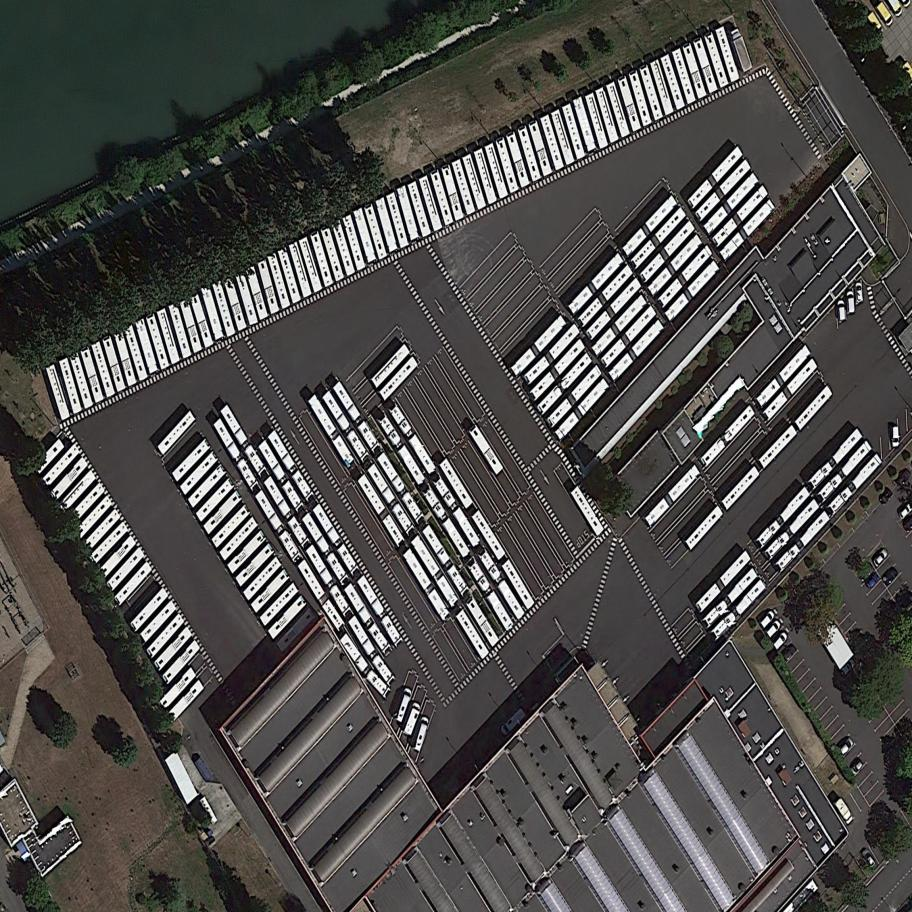large-vehicle: (759, 356, 821, 422), (685, 145, 747, 211), (565, 250, 627, 316), (543, 363, 605, 429), (753, 343, 814, 409), (637, 219, 698, 285), (575, 263, 636, 329), (552, 376, 613, 442), (710, 184, 772, 248), (619, 194, 681, 258), (697, 403, 758, 468), (693, 158, 754, 223), (606, 318, 667, 383), (598, 304, 659, 369), (589, 293, 650, 358), (583, 276, 644, 341), (508, 314, 569, 379), (645, 233, 705, 299), (305, 392, 357, 468), (431, 472, 482, 549), (716, 199, 778, 262), (693, 549, 754, 613), (655, 244, 716, 308), (627, 206, 688, 270), (527, 338, 588, 402), (534, 352, 594, 417), (410, 533, 461, 609), (643, 464, 704, 527), (521, 323, 582, 386), (815, 439, 875, 503), (401, 547, 452, 622), (376, 412, 427, 487), (701, 172, 761, 235), (701, 566, 761, 629), (296, 558, 347, 632), (465, 558, 516, 632), (421, 485, 472, 559), (375, 451, 426, 525), (254, 488, 303, 565), (305, 544, 354, 620), (825, 453, 884, 516), (256, 439, 306, 513), (477, 546, 527, 620), (356, 473, 406, 547), (346, 615, 397, 687), (663, 260, 722, 322), (807, 428, 866, 490), (773, 511, 832, 573), (755, 485, 813, 548), (262, 476, 312, 549), (321, 390, 371, 463), (421, 524, 471, 597), (388, 403, 438, 476), (355, 574, 404, 648), (311, 502, 360, 576), (212, 418, 261, 492), (763, 498, 821, 560), (344, 583, 393, 656), (300, 512, 349, 585), (267, 429, 316, 502), (709, 580, 768, 640), (367, 463, 416, 535), (338, 634, 391, 700), (332, 381, 381, 452), (219, 404, 267, 474), (111, 561, 156, 608), (38, 443, 83, 490), (154, 409, 199, 456), (377, 355, 422, 402), (265, 594, 310, 640), (274, 607, 318, 654), (151, 625, 195, 672), (241, 555, 285, 602), (217, 515, 261, 562), (201, 489, 245, 536), (103, 546, 147, 593), (369, 343, 413, 390), (792, 384, 836, 431), (438, 456, 475, 511), (257, 581, 301, 627), (248, 568, 292, 614), (127, 587, 171, 633), (79, 508, 123, 554), (47, 457, 91, 503), (144, 613, 187, 660), (757, 424, 800, 471), (469, 509, 507, 562), (468, 423, 506, 476), (225, 529, 269, 574), (233, 542, 277, 587), (209, 503, 253, 548), (185, 463, 229, 508), (177, 451, 221, 496), (156, 666, 199, 712), (160, 640, 203, 686), (683, 505, 726, 551), (570, 484, 607, 537), (194, 477, 237, 522), (719, 466, 762, 511), (464, 596, 501, 648), (454, 608, 491, 660), (500, 558, 536, 611), (89, 521, 132, 565), (137, 600, 179, 645), (170, 439, 213, 482), (73, 495, 115, 539), (98, 535, 139, 579), (57, 470, 98, 513), (167, 679, 208, 721), (659, 53, 687, 111), (319, 223, 346, 283), (713, 26, 741, 83), (703, 30, 730, 89), (681, 42, 708, 101), (638, 63, 665, 122), (561, 101, 587, 162), (472, 148, 499, 206), (122, 324, 149, 382), (692, 37, 719, 95), (428, 167, 454, 227), (363, 202, 389, 261), (341, 213, 367, 272), (277, 247, 303, 306), (69, 352, 95, 411), (539, 113, 565, 172), (605, 81, 631, 140), (45, 363, 71, 422), (407, 180, 433, 238), (145, 313, 171, 371), (628, 68, 653, 128), (418, 175, 444, 232), (223, 276, 249, 333), (550, 109, 576, 166), (671, 48, 697, 105), (649, 59, 675, 116), (70, 483, 107, 523), (528, 119, 553, 178), (495, 136, 520, 195), (267, 252, 292, 311), (113, 330, 138, 389), (80, 346, 105, 405), (58, 356, 83, 415), (617, 74, 642, 133), (462, 154, 488, 210), (189, 293, 215, 349), (571, 96, 597, 152), (506, 131, 531, 189), (395, 184, 420, 242), (353, 206, 378, 264), (331, 219, 356, 277), (212, 280, 237, 338), (168, 302, 193, 360), (156, 308, 181, 366), (135, 318, 160, 376), (102, 335, 127, 393), (91, 341, 116, 399), (594, 87, 619, 145), (484, 143, 509, 200), (245, 265, 270, 322), (200, 284, 225, 341), (299, 236, 324, 293), (441, 163, 465, 222), (310, 230, 334, 289), (585, 92, 609, 151), (234, 271, 259, 327), (517, 125, 541, 183), (452, 158, 476, 216), (257, 258, 281, 316), (726, 25, 754, 74), (375, 196, 399, 253), (289, 242, 313, 299), (179, 298, 203, 354), (386, 192, 409, 249), (32, 439, 67, 475), (409, 714, 432, 754), (393, 686, 414, 723), (401, 701, 423, 736)
small-vehicle: (832, 794, 857, 827), (874, 1, 897, 29), (865, 10, 887, 39), (870, 545, 892, 569), (880, 565, 902, 588), (835, 735, 857, 757), (758, 608, 779, 631), (860, 847, 880, 871), (764, 618, 784, 640), (770, 630, 790, 651), (847, 757, 867, 776), (863, 572, 882, 591), (780, 643, 798, 662), (845, 291, 856, 315), (891, 424, 901, 448), (854, 282, 864, 306), (837, 300, 846, 323)
